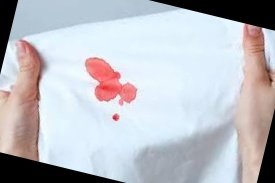blood: (77, 55, 144, 110), (111, 113, 121, 123)
